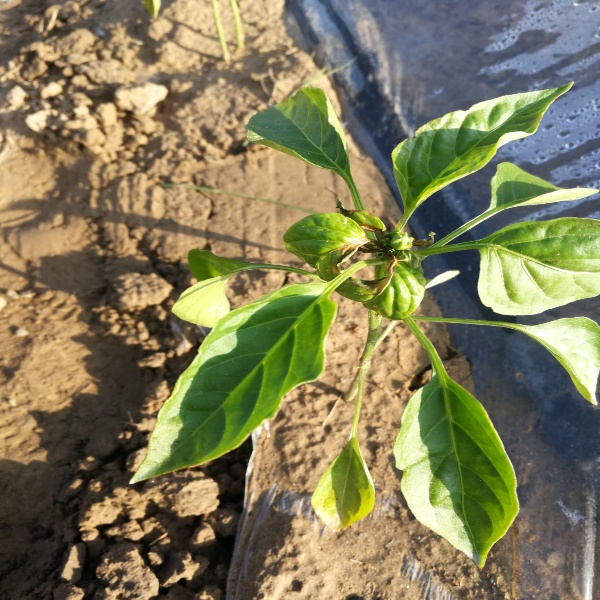blight: (329, 216, 436, 296)
